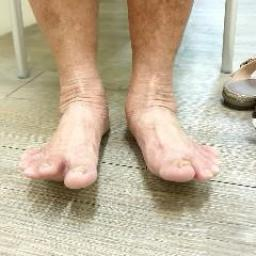Front View -Both Feet-: (9, 49, 222, 216)
